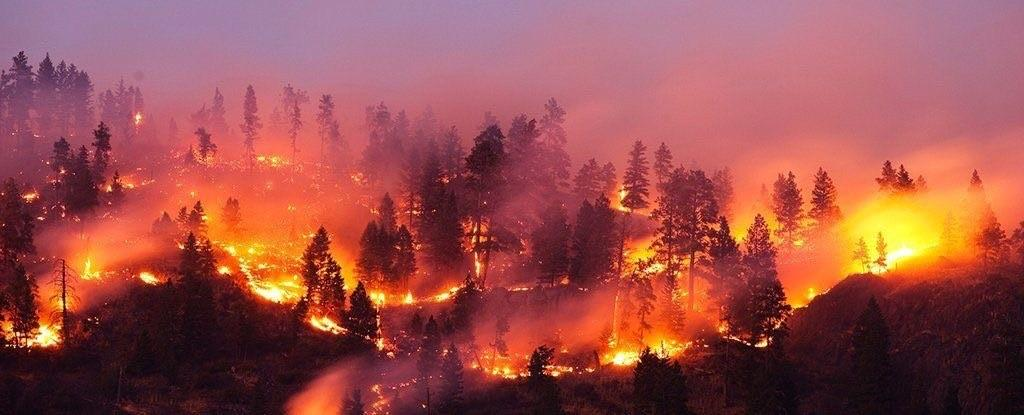fire: (168, 194, 316, 312), (332, 202, 472, 317), (0, 122, 100, 229), (694, 268, 808, 354), (537, 314, 687, 377), (617, 225, 697, 297), (3, 281, 73, 358), (456, 340, 540, 380), (597, 168, 649, 224), (106, 163, 152, 193), (72, 259, 110, 283), (133, 262, 169, 287), (250, 152, 288, 168)
